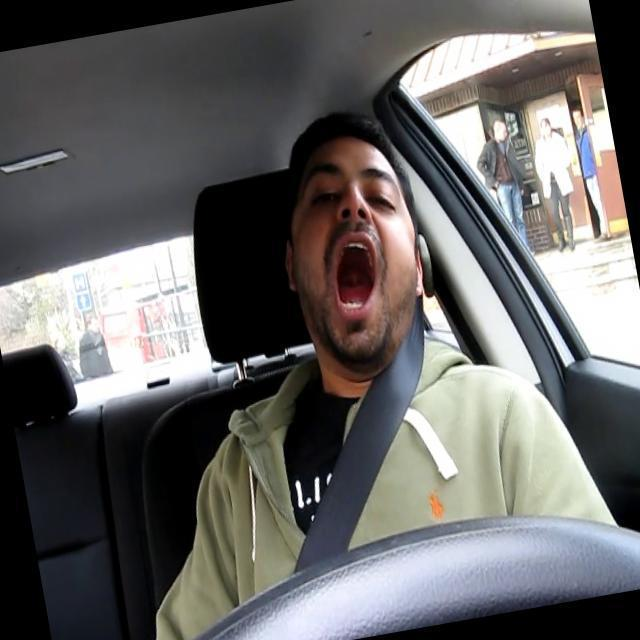open-mouth: (330, 230, 381, 324)
